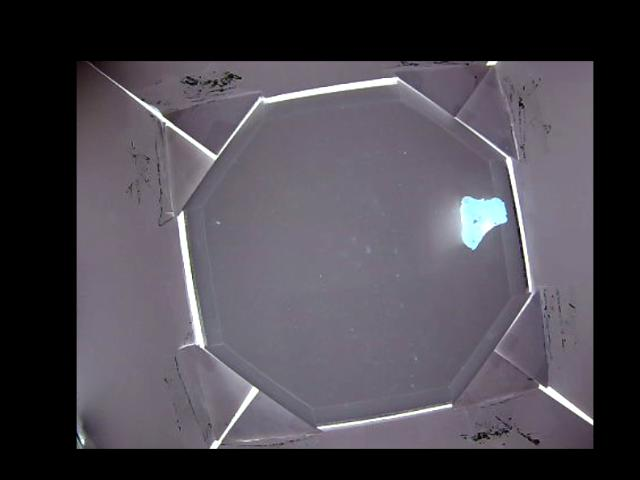Brisk: (458, 196, 507, 250)
